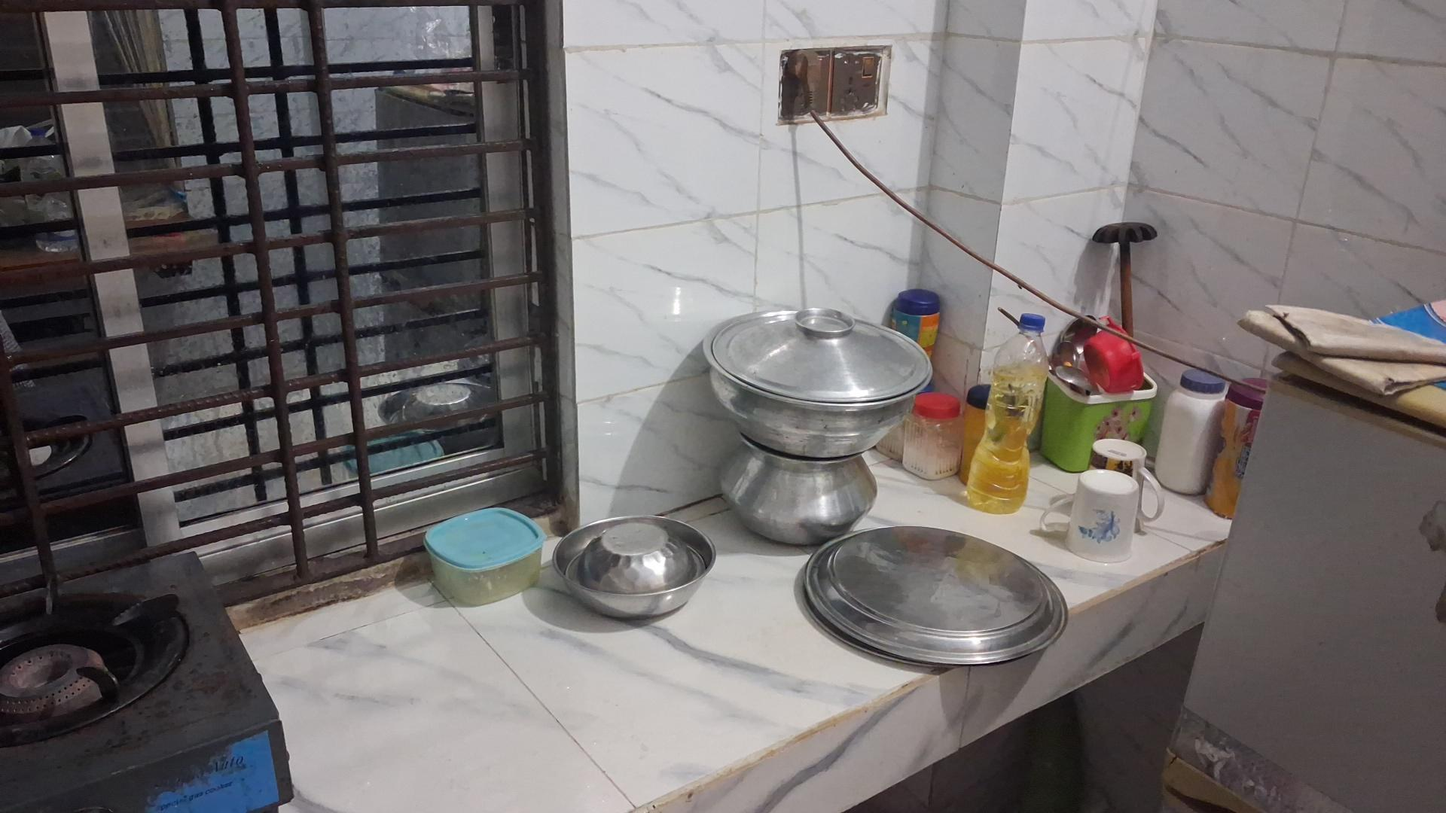Bottle: (960, 312, 1050, 511)
Bowl: (552, 516, 716, 622)
Cup: (1064, 468, 1149, 565)
Jar: (422, 506, 546, 606), (1158, 365, 1225, 498), (1208, 376, 1267, 517), (904, 395, 956, 477)
Plate: (801, 531, 1072, 669)
Pot: (699, 308, 939, 455), (723, 445, 878, 547)
Window: (0, 0, 583, 551)
